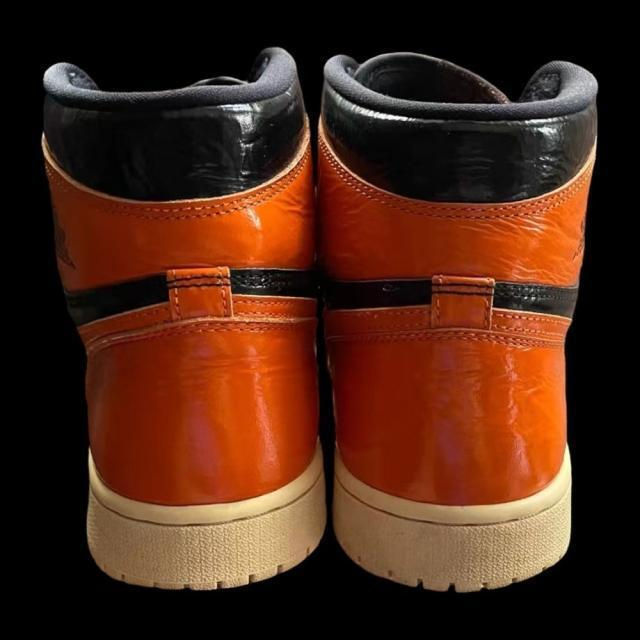nike original jordan 1: (42, 41, 334, 593), (319, 42, 602, 600)
